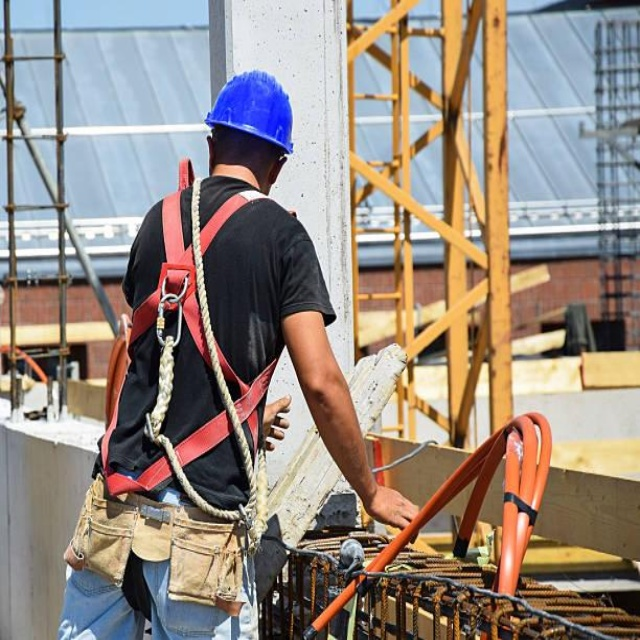Arnes_seguridad: (100, 167, 276, 546)
